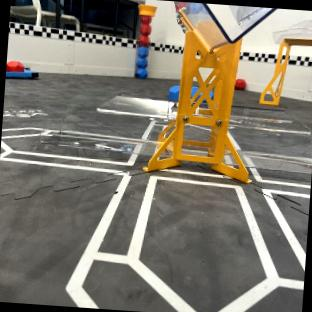V5_BLUE: (136, 45, 148, 77)
